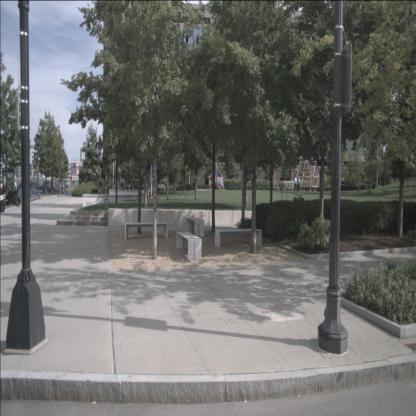human-pedestrian-adult: (293, 176, 297, 192), (297, 176, 301, 191), (123, 180, 127, 192)
vehicle-motorcycle: (0, 185, 22, 206), (0, 189, 6, 212)
